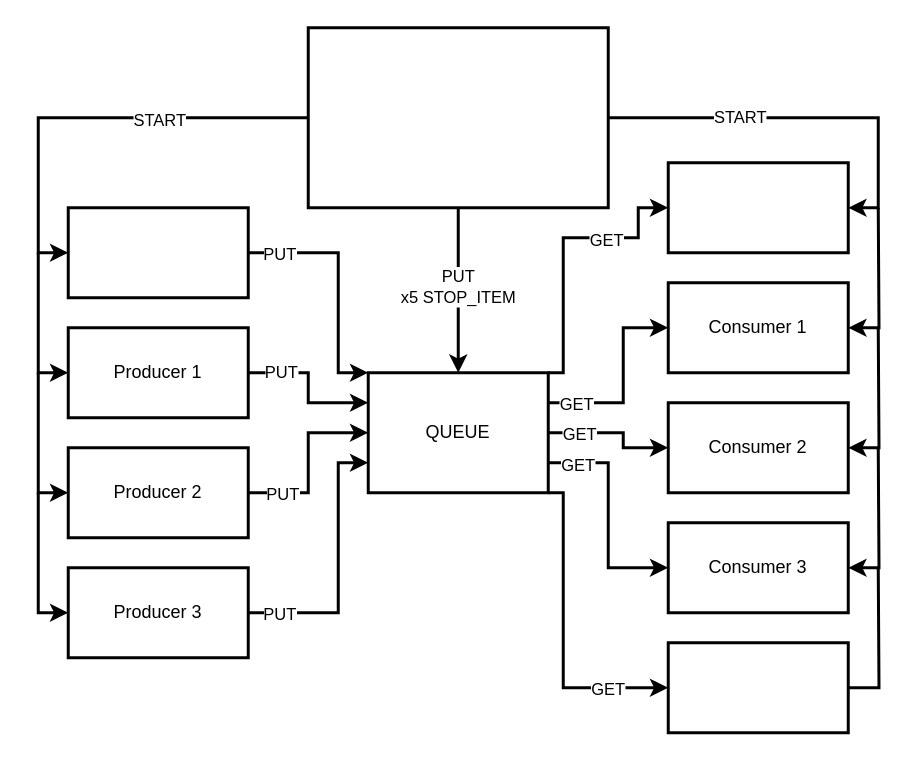
Some shapes in this 918 by 759 pixel diagram are drawn without their labels. Each missing label, with the centre of its shape:
"Consumer 0" goes at [757,207].
"Consumer 4" goes at [757,687].
"Main Thread" goes at [457,117].
"Producer 0" goes at [157,252].
